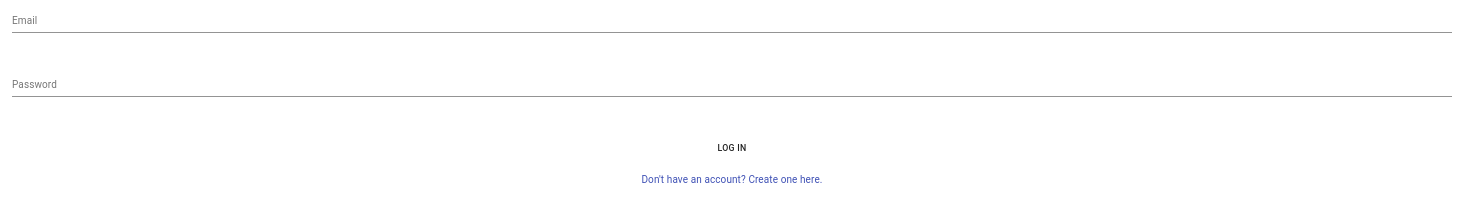
Test: <LoginForm /> › should show the proper errors when no values are entered
Click the button at (732, 148), box top-left (12, 135), bottom-right (1452, 162)
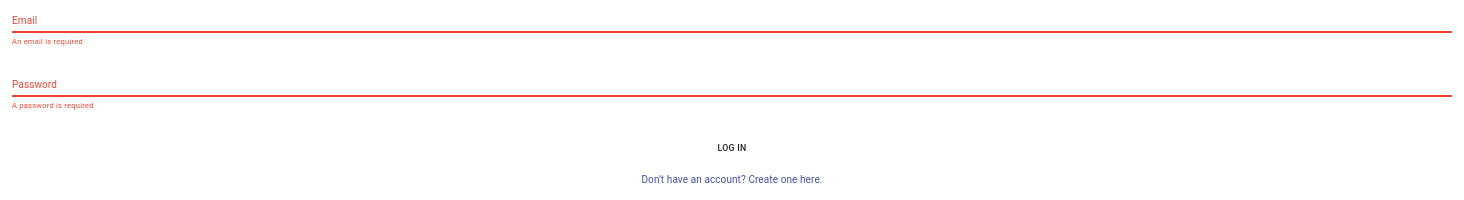
Expected: the text "An email is required" is shown, top-left (12, 37), bottom-right (83, 46)
Expected: the text "A password is required" is shown, top-left (12, 101), bottom-right (94, 110)
